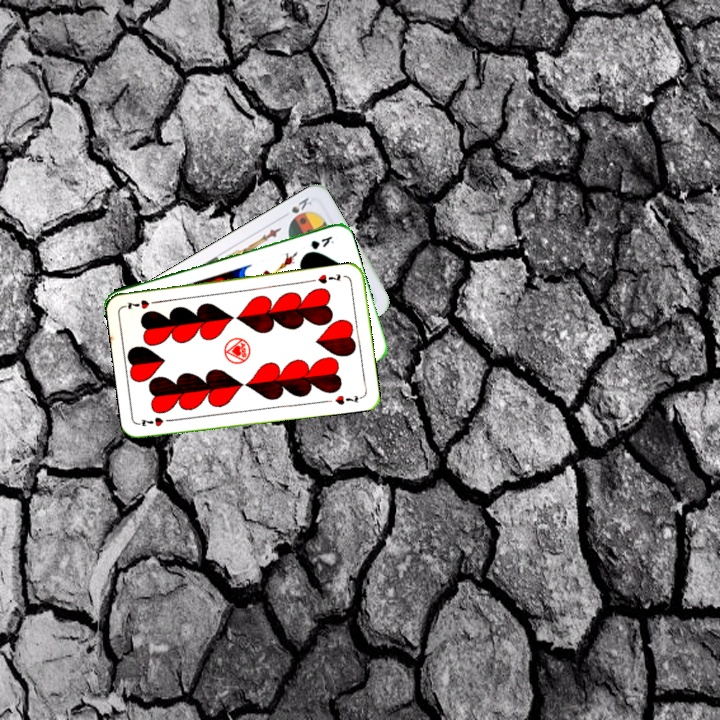GK: (307, 232, 336, 252)
H7: (136, 413, 176, 429), (314, 270, 343, 286)
SK: (278, 193, 315, 221)
